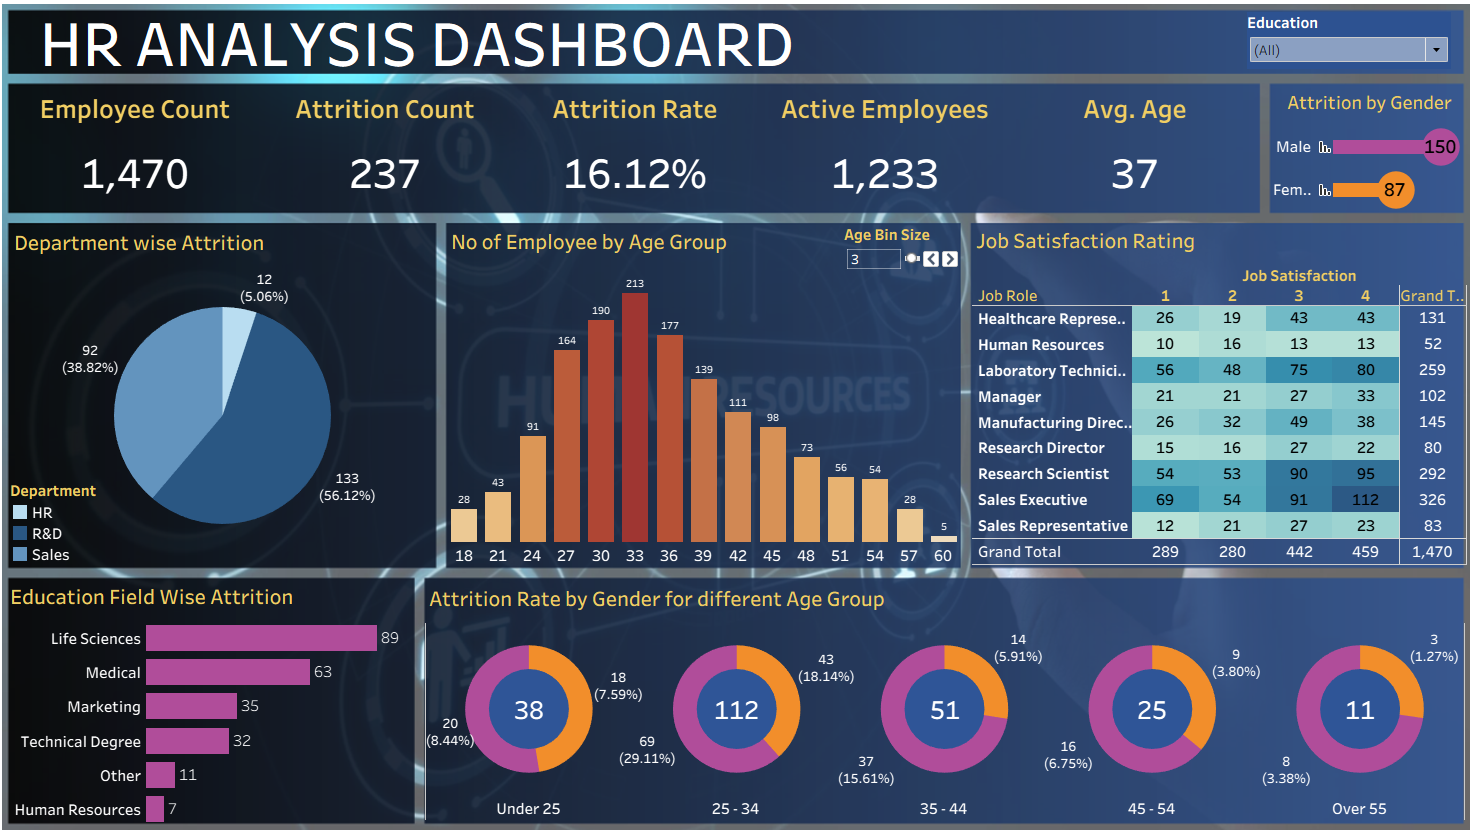

The page's visual inventory and layout, read from the dashboard file:
{"tool":"tableau","page":{"name":"HR ANALYSIS DASHBOARD","canvas":[1600,850],"ordinal":0},"visuals":[{"type":"image","param":"Image/HR background 3.png","box":[8,8,1552,834]},{"type":"image","param":"Image/HR background.pptx.png","box":[1560,8,32,834]},{"type":"filter","title":"Department wise Attrition","param":"[federated.0h3fhem10833v31a9sttt1662d8b].[none:Education:nk]","box":[1295,20,204,57]},{"type":"text","box":[84,22,794,56]},{"type":"worksheet","title":"KPIs","mark":"Automatic","box":[58,93,1250,134]},{"type":"worksheet","title":"Attrition by Gender","mark":"Automatic","rows":["Gender"],"cols":["Calculation_9030332574253056","Calculation_9030332574253056"],"box":[1321,93,193,126]},{"type":"worksheet","title":"Job Satisfaction Rating","mark":"Square","rows":["Job Role"],"cols":["Job Satisfaction"],"box":[1020,230,495,343]},{"type":"worksheet","title":"No of Employee by Age Group","mark":"Automatic","rows":["Employee Count"],"cols":["Age (bin)"],"box":[495,231,514,344]},{"type":"worksheet","title":"Department wise Attrition","mark":"Pie","box":[58,232,425,340]},{"type":"parameter","param":"[Parameters].[Parameter 9030332629049347]","box":[892,232,117,47]},{"type":"legend","title":"Department wise Attrition","param":"[federated.0h3fhem10833v31a9sttt1662d8b].[none:Department:nk]","box":[58,488,140,85]},{"type":"worksheet","title":"Education Field Wise Attrition","mark":"Automatic","rows":["Education Field"],"cols":["Calculation_9030332574253056"],"box":[54,586,410,248]},{"type":"legend","title":"Attrition Rate by Gender for different Age Group","param":"[federated.0h3fhem10833v31a9sttt1662d8b].[none:Gender:nk]","box":[1242,586,355,24]},{"type":"worksheet","title":"Attrition Rate by Gender for different Age Group","mark":"Pie","rows":["Calculation_9030332641251333","Calculation_9030332641251333"],"cols":["CF_age band"],"box":[475,590,1038,241]}]}

Visuals, with their boxes in screenshot pixels (x1, y1, x2, y2):
image: [0, 4, 1468, 820]
image: [1468, 4, 1475, 820]
"Department wise Attrition" filter: [1209, 16, 1408, 71]
text: [24, 18, 801, 72]
"KPIs" worksheet: [0, 87, 1221, 218]
"Attrition by Gender" worksheet: [1234, 87, 1423, 210]
"Job Satisfaction Rating" worksheet (Square marks): [940, 221, 1424, 556]
"No of Employee by Age Group" worksheet: [426, 222, 929, 558]
"Department wise Attrition" worksheet (Pie marks): [0, 223, 415, 555]
parameter: [815, 223, 929, 269]
"Department wise Attrition" legend: [0, 473, 136, 556]
"Education Field Wise Attrition" worksheet: [0, 569, 396, 812]
"Attrition Rate by Gender for different Age Group" legend: [1157, 569, 1475, 593]
"Attrition Rate by Gender for different Age Group" worksheet (Pie marks): [407, 573, 1422, 809]
